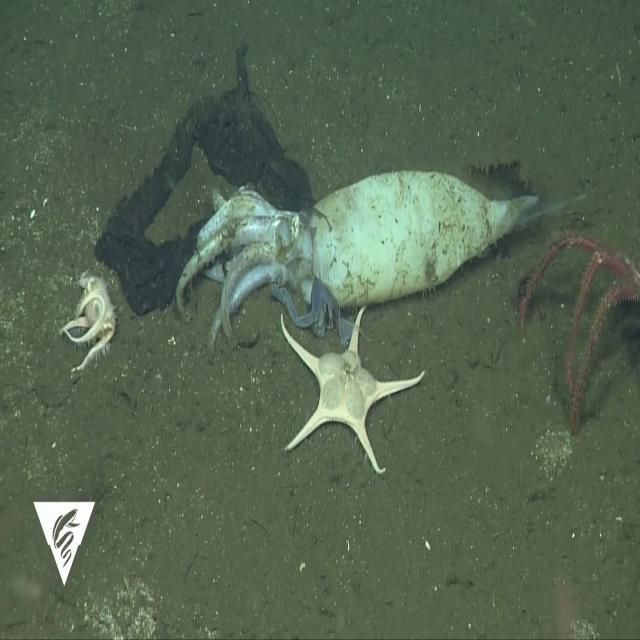squid: (175, 166, 538, 358)
